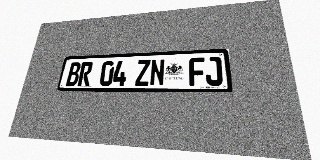0: (99, 61, 115, 86)
4: (112, 60, 128, 86)
B: (66, 62, 82, 86)
F: (189, 57, 205, 86)
J: (205, 57, 223, 86)
N: (149, 59, 165, 86)
R: (77, 62, 93, 86)
Z: (135, 59, 151, 86)
